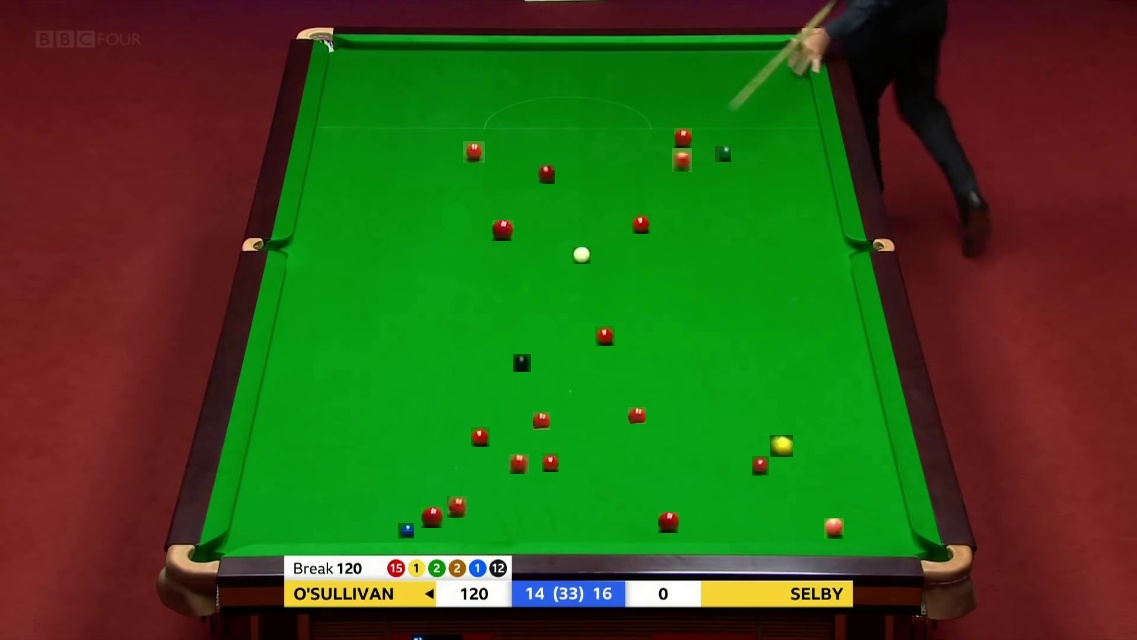black: (513, 354, 531, 372)
blue: (398, 523, 414, 539)
brown: (538, 165, 557, 182)
green: (715, 146, 731, 162)
pink: (824, 518, 845, 538)
red: (463, 141, 485, 163), (672, 148, 696, 168), (492, 220, 513, 242), (421, 507, 442, 529), (658, 512, 679, 533), (447, 496, 469, 516), (509, 454, 529, 474), (595, 326, 615, 346), (471, 427, 491, 446), (632, 214, 652, 233), (674, 128, 694, 146), (752, 456, 772, 473), (542, 453, 561, 470), (533, 412, 551, 429), (628, 407, 645, 425)
white: (572, 247, 589, 266)
yellow: (770, 435, 792, 458)
